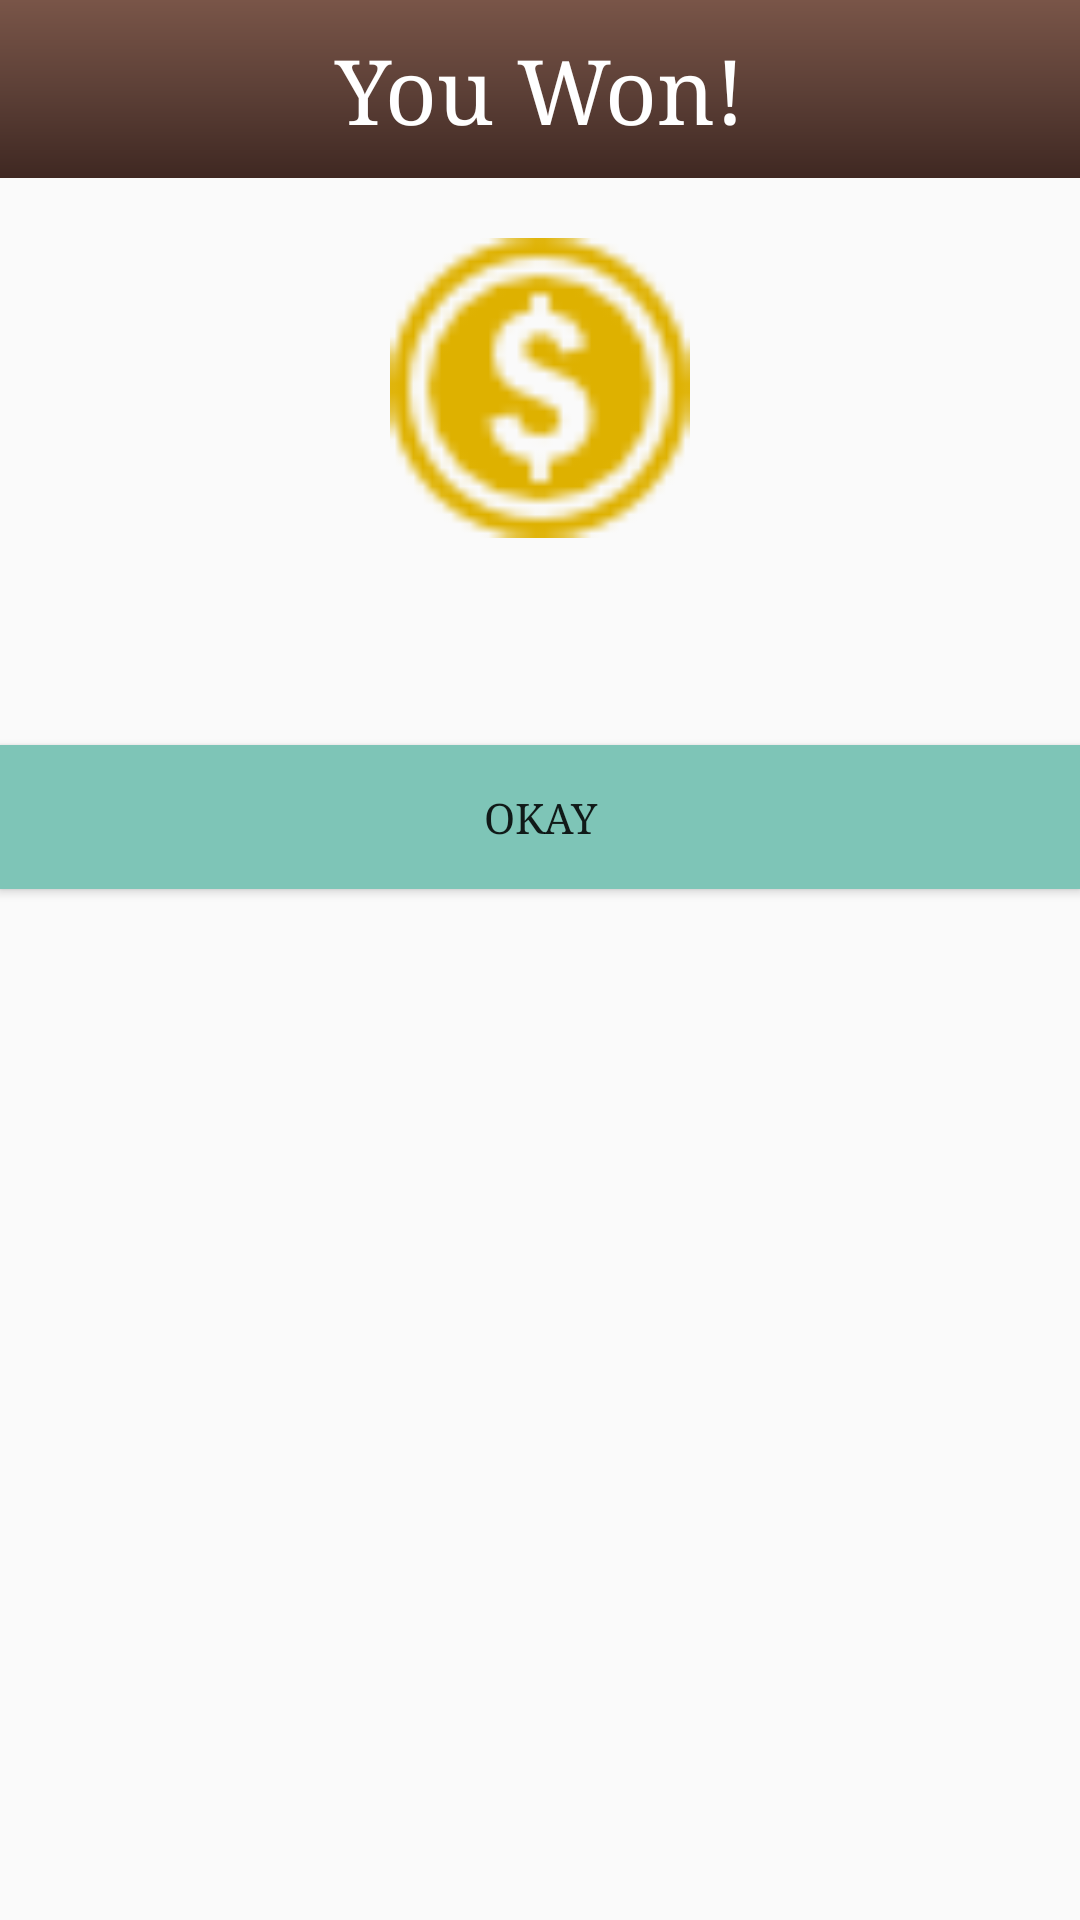

Screen size 1080x1920. Icon name, then its box in pixels as rect(x1, y1, x2, y2):
gold: rect(390, 238, 690, 538)
